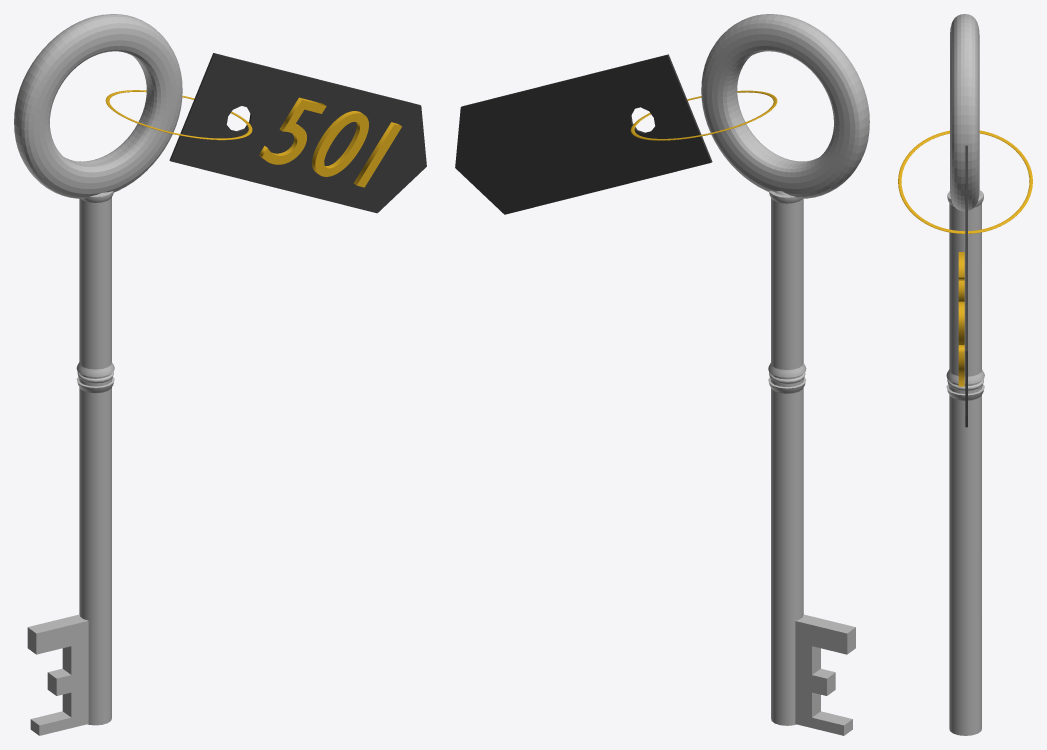
The model's file is key501.fbx.
3 views of the same model, side by side, from view 1: azimuth 30°, elevation 25°; view 2: azimuth 150°, elevation 25°; view 3: azimuth 270°, elevation 25° (orthographic).
Parts seen in each view (by area): view 1: key501; view 2: key501; view 3: key501.
Boxes of the visible parts, box(x1,y1,x2,y2) form: key501: box(14, 14, 426, 735); key501: box(455, 14, 869, 735); key501: box(898, 14, 1032, 735).
Size of the model in its own units: 8.68 by 14.18 by 2.45.
